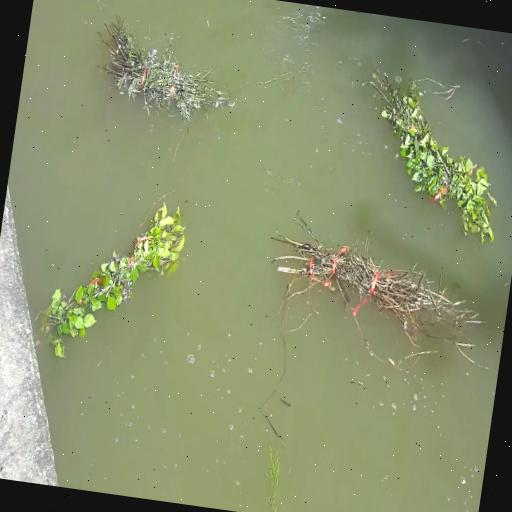twig: (41, 202, 190, 366), (270, 240, 472, 344), (376, 78, 507, 226), (105, 30, 233, 118)
